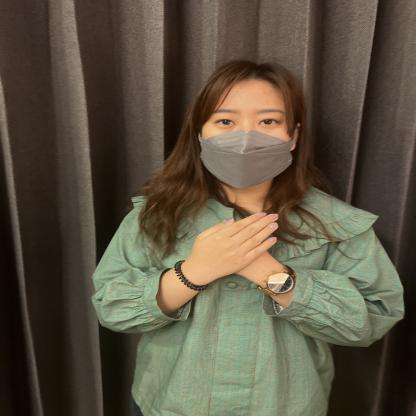Grieve: (113, 194, 416, 305)
